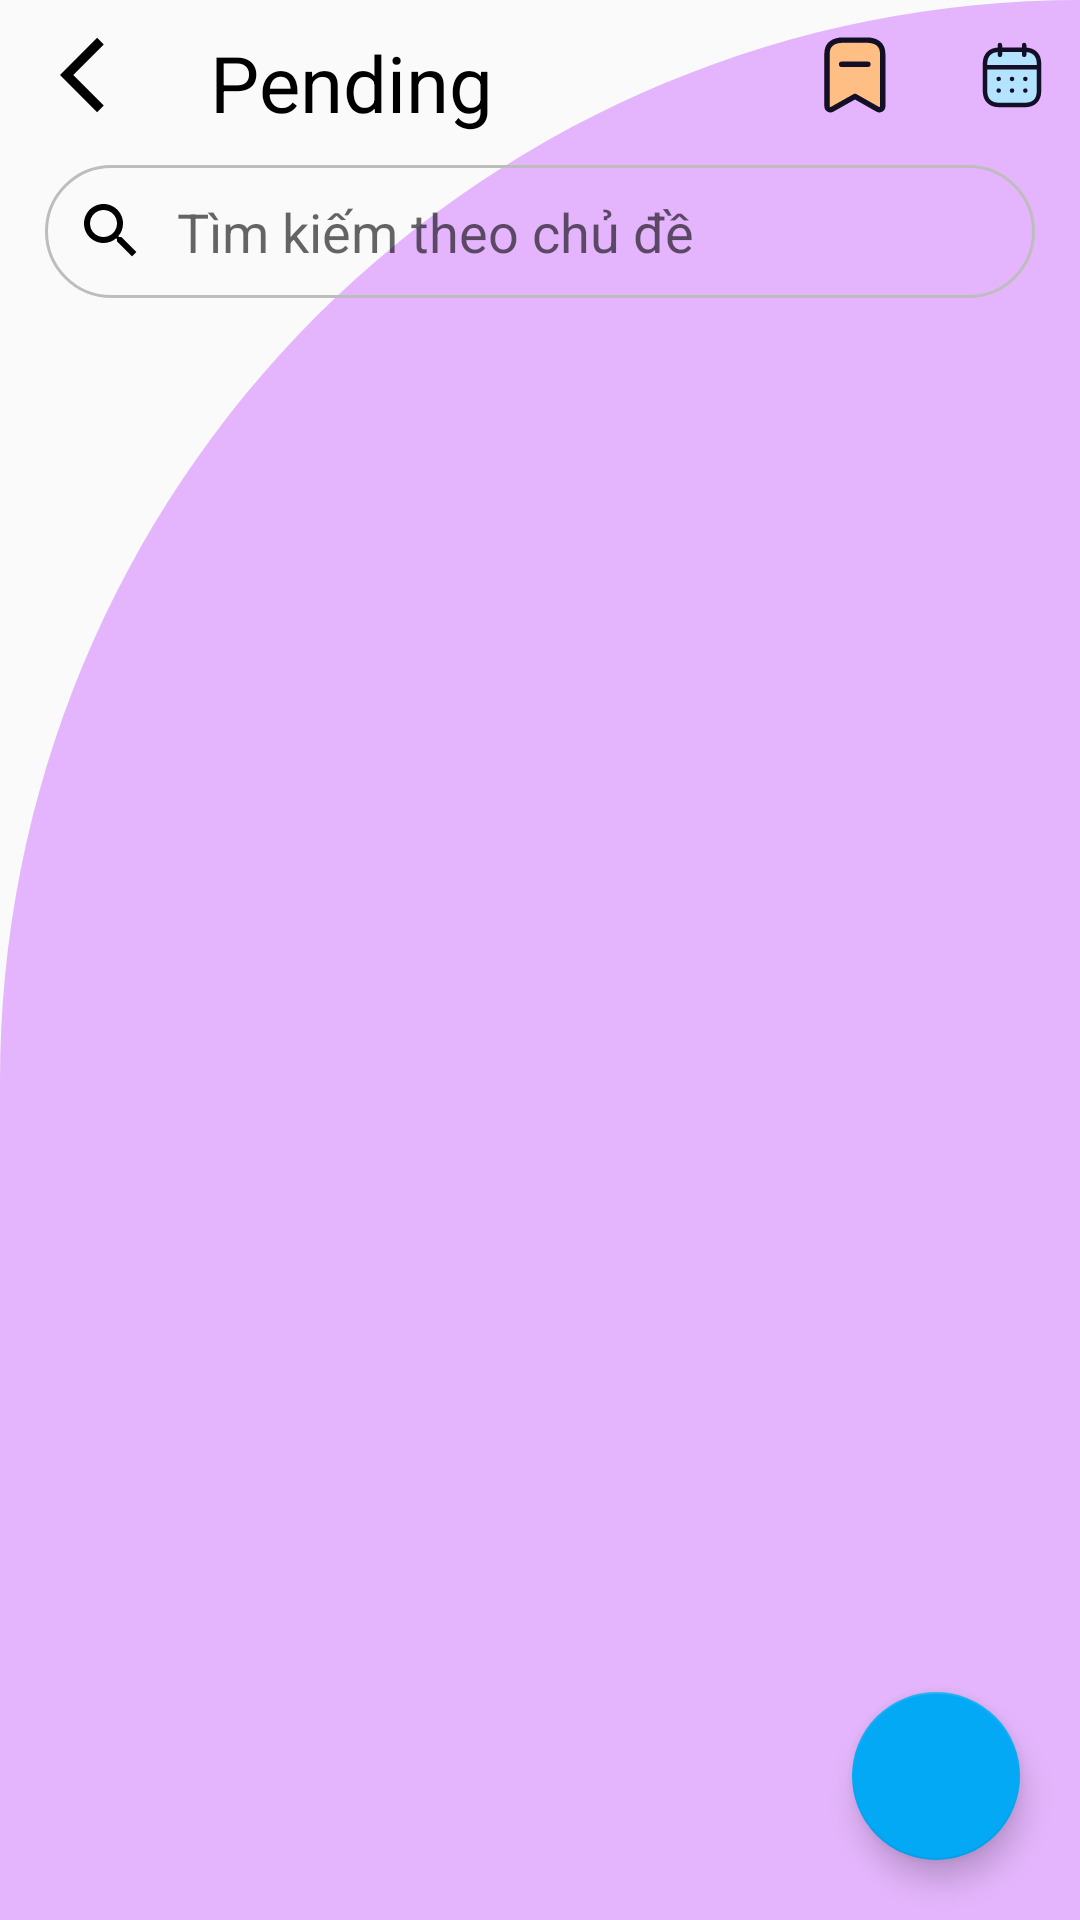

Where icons sit on this 1080*1920 app screen, as (x1,y1,x2,y2):
arrow back: (60,38,104,112)
bookmark: (824,37,886,113)
calendar: (982,42,1042,108)
